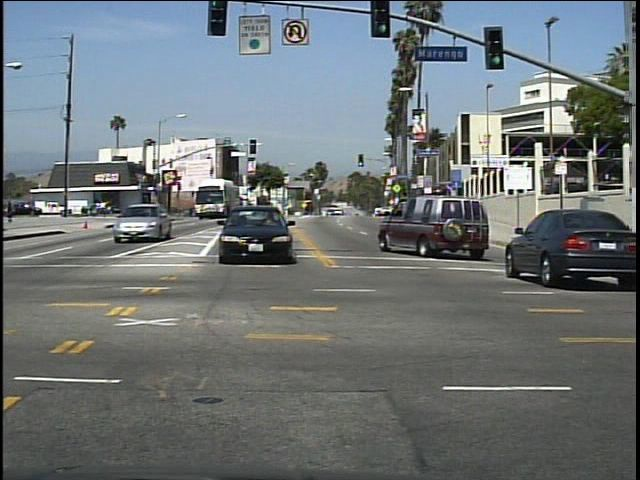person: (4, 198, 21, 227)
